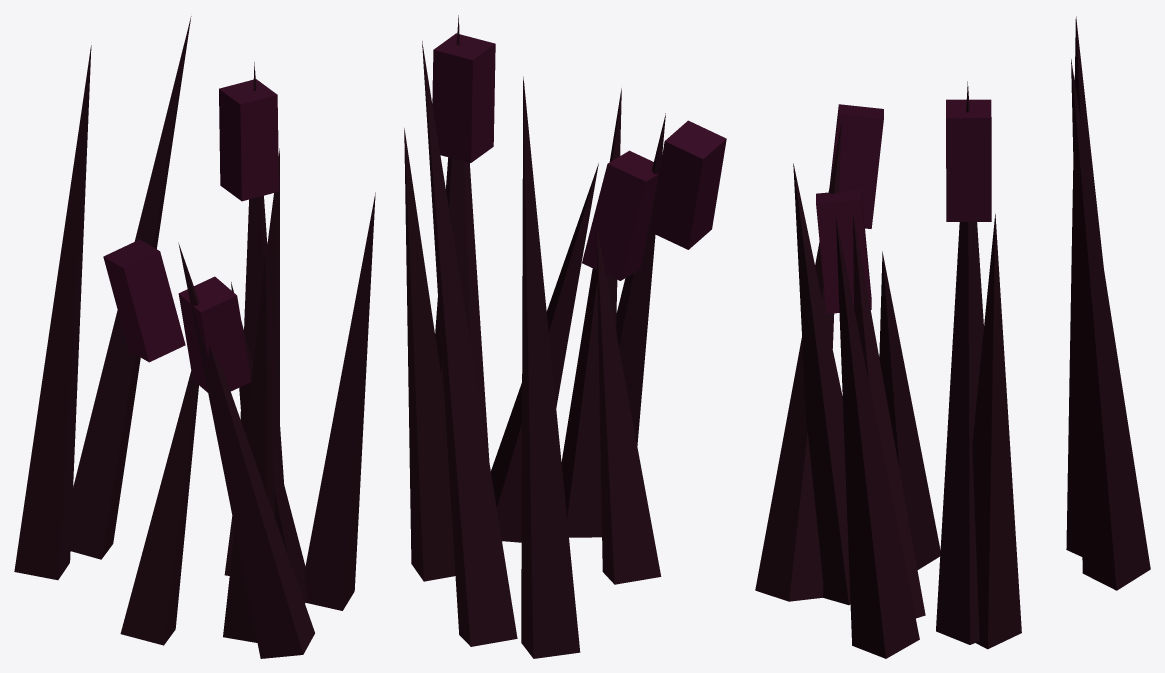
Rendered from reeds.glb.
The picture shows the model from 3 angles, left to right: view 1: azimuth 30°, elevation 25°; view 2: azimuth 150°, elevation 25°; view 3: azimuth 270°, elevation 25°; orthographic projection. The views are drawn at different scales.
Visible parts, largest first — view 1: R3, R4, R7, R1, R2, S0, S4, R5, S8, R0, R8, R6; view 2: R7, R3, R6, R2, R5, S0, S4, R8, S8, R4, R0, R1; view 3: R7, R1, R0, R6, R5, R4, R2, S0, R8, R3, S8, S4.
Boxes of the visible parts, x1,y1,x2,y2 form: R3: (14, 45, 91, 580); R4: (178, 242, 314, 658); R7: (70, 16, 191, 559); R1: (304, 192, 375, 610); R2: (120, 371, 198, 645); S0: (219, 79, 278, 201); S4: (103, 239, 185, 362); R5: (223, 251, 274, 642); S8: (178, 276, 251, 392); R0: (240, 62, 284, 484); R8: (231, 282, 307, 603); R6: (224, 148, 279, 575); R7: (422, 41, 517, 646); R3: (521, 76, 580, 658); R6: (404, 128, 455, 581); R2: (596, 224, 661, 584); R5: (561, 88, 621, 537); S0: (432, 33, 495, 162); S4: (650, 120, 726, 249); R8: (491, 163, 598, 542); S8: (582, 150, 658, 280); R4: (616, 113, 665, 445); R0: (435, 15, 470, 395); R1: (464, 161, 489, 460); R7: (1071, 59, 1150, 590); R1: (836, 218, 919, 658); R0: (936, 81, 983, 644); R6: (972, 213, 1021, 649); R5: (793, 163, 850, 605); R4: (755, 120, 841, 601); R2: (879, 251, 940, 569); S0: (946, 99, 991, 221); R8: (853, 212, 925, 618); R3: (1066, 16, 1103, 556); S8: (816, 189, 871, 313); S4: (829, 104, 883, 228).
Bounding box in the file's own units: 0.5442 × 1.1 × 0.6962.
